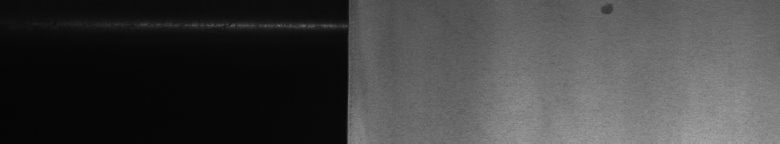fi: (597, 4, 618, 20)
